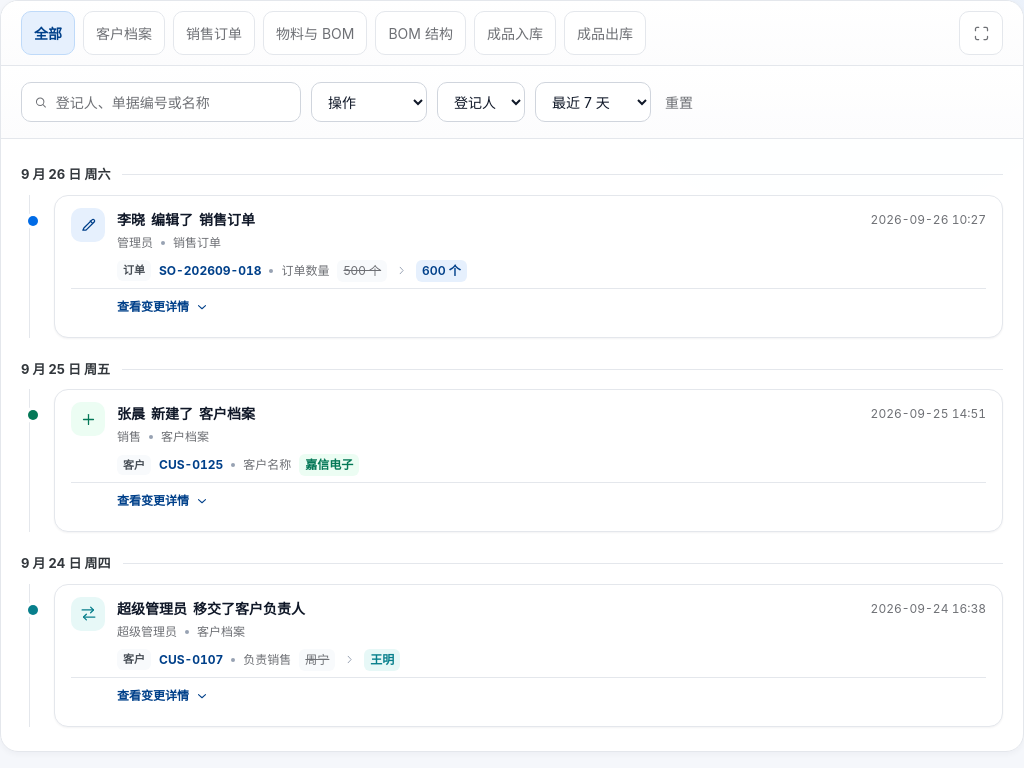
Scenario: 展开详情显示全量变更与操作原因块；新建类明细直接显示值（无「新建记录」前缀）
Click the button "查看变更详情" below "移交了客户负责人" at [163, 696], box [117, 678, 209, 714]
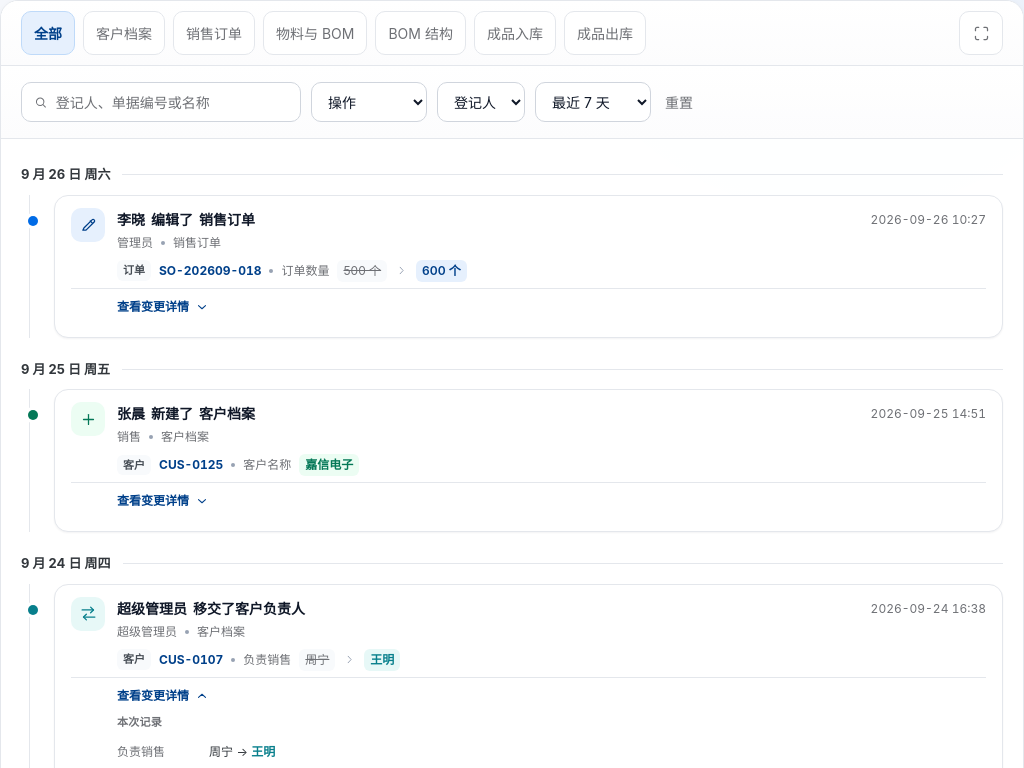
Expected: the text "周宁" is shown 2 times, [299, 648, 335, 670]; [209, 740, 275, 764]
Expected: the text "王明" is shown 2 times, [364, 648, 400, 670]; [251, 744, 275, 759]
Click the button "查看变更详情" below "张晨" at [163, 501], box [117, 483, 209, 519]
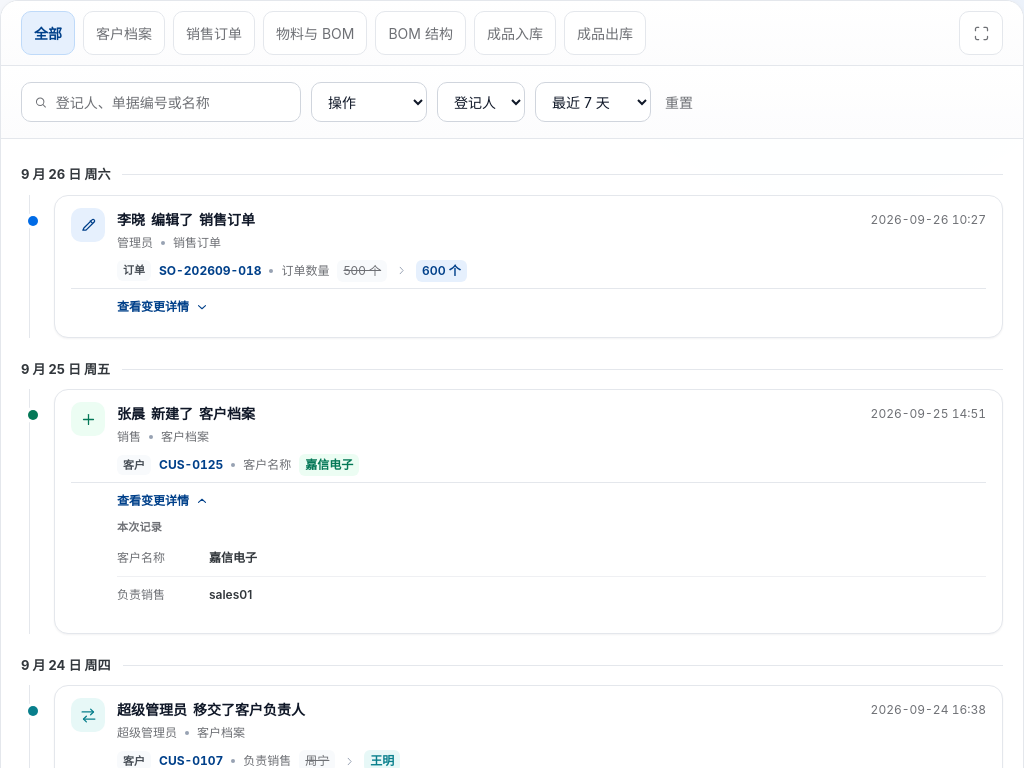
Expected: the text "嘉信电子" is shown 2 times, [299, 454, 359, 476]; [209, 550, 257, 564]
Expected: the text "sales01" is shown once, [209, 586, 252, 602]
